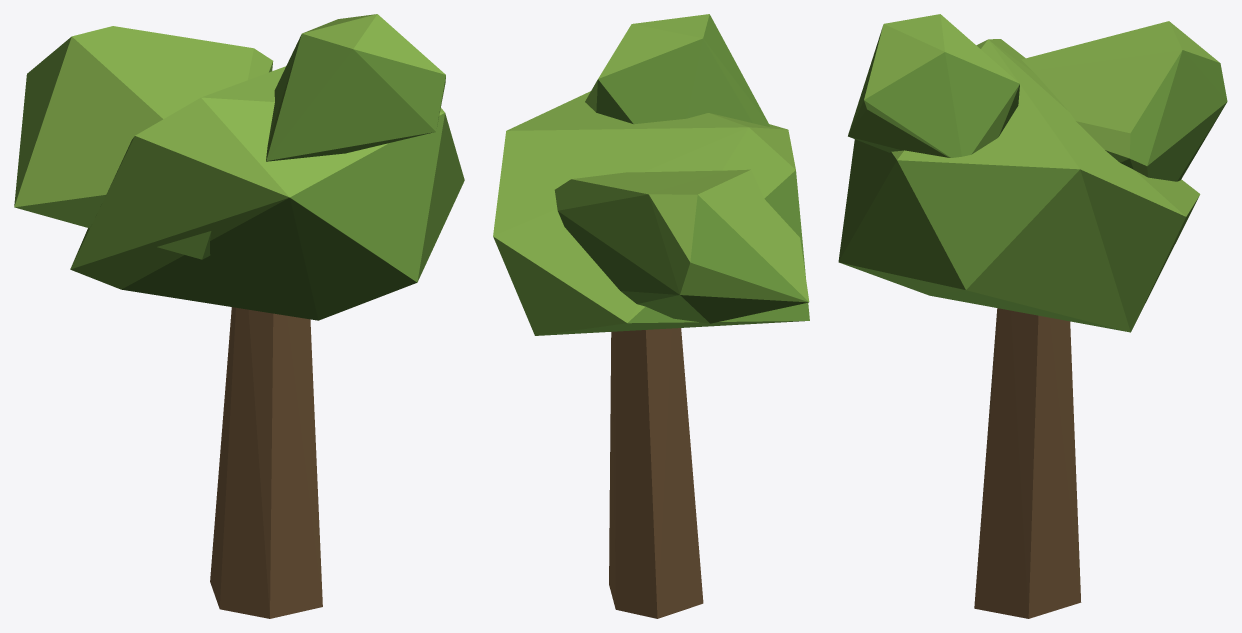
File: Tree_B.fbx
The picture shows the model from 3 angles, left to right: view 1: azimuth 30°, elevation 25°; view 2: azimuth 150°, elevation 25°; view 3: azimuth 270°, elevation 25°; orthographic projection. The views are drawn at different scales.
Parts seen in each view (by area): view 1: Tree_B; view 2: Tree_B; view 3: Tree_B.
Boxes of the visible parts, left/top/right/bottom form: Tree_B: left=14, top=14, right=464, bottom=618; Tree_B: left=493, top=14, right=809, bottom=618; Tree_B: left=838, top=14, right=1227, bottom=618.
Size of the model in its own units: 3.6 by 5.4 by 3.3.
